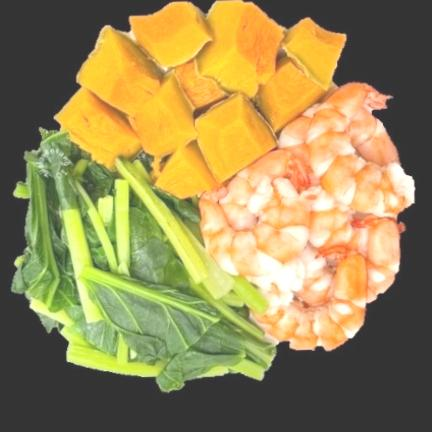fish: (200, 84, 415, 351)
salad: (13, 131, 276, 391)
